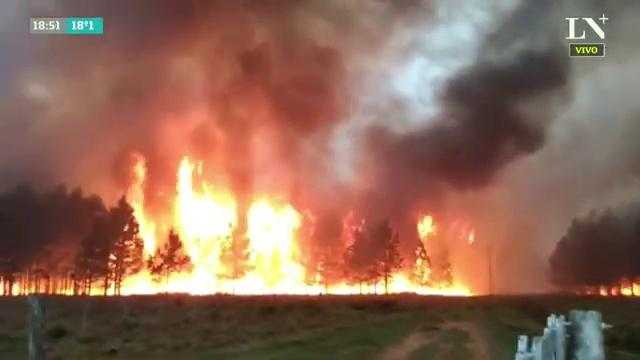fire: (181, 192, 300, 291), (340, 278, 475, 295), (117, 272, 157, 293)
smoke: (147, 13, 331, 115)
